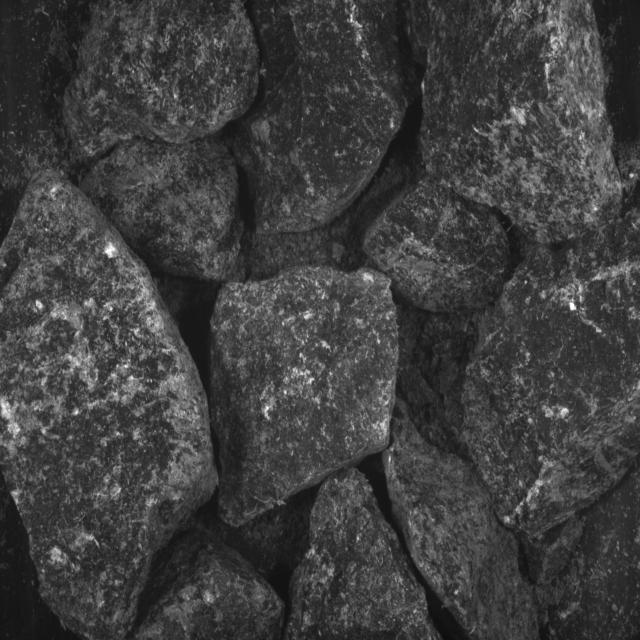Stones: (1, 172, 219, 639), (464, 213, 640, 537), (211, 268, 399, 528), (422, 1, 622, 245), (234, 1, 409, 234), (384, 403, 539, 640), (65, 1, 260, 158), (286, 469, 441, 640), (81, 139, 242, 281), (365, 180, 511, 313), (134, 526, 286, 640)
